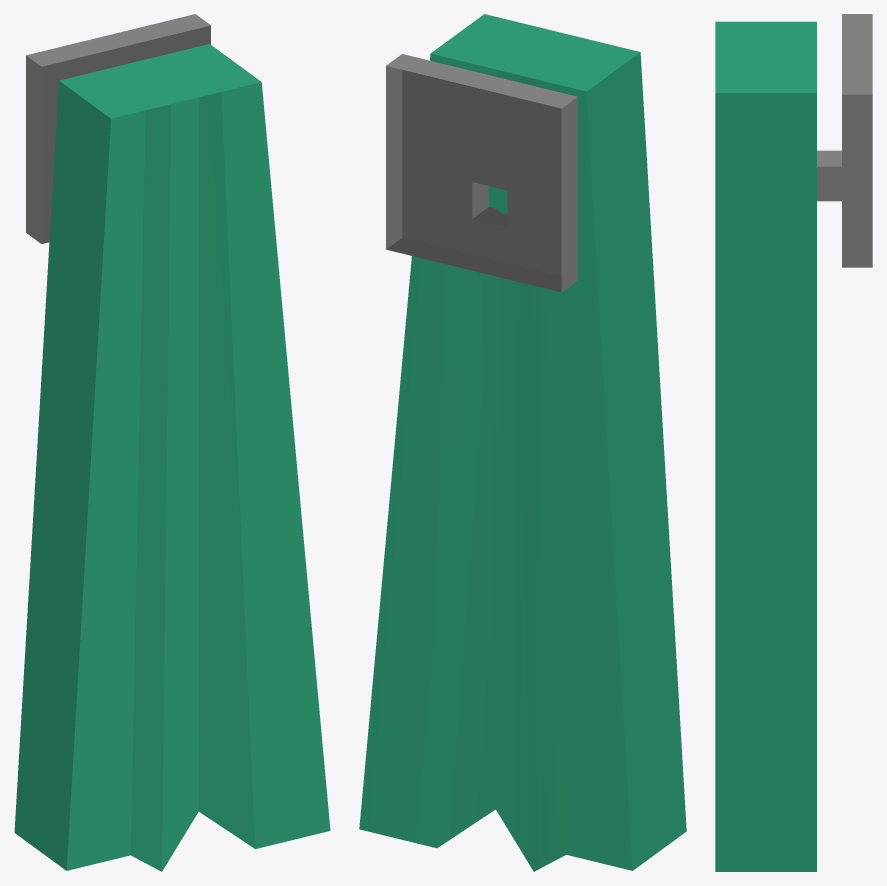
Rendered from ClothesHook2.glb.
3 renders of one model, left to right at view 1: azimuth 30°, elevation 25°; view 2: azimuth 150°, elevation 25°; view 3: azimuth 270°, elevation 25°, orthographic. The views are drawn at different scales.
Visible parts, largest first — view 1: SI_Prop_ClothesHook_02; view 2: SI_Prop_ClothesHook_02; view 3: SI_Prop_ClothesHook_02.
Part boxes in pixels (x1,y1,x2,y2): SI_Prop_ClothesHook_02: [14, 14, 330, 871]; SI_Prop_ClothesHook_02: [359, 14, 686, 871]; SI_Prop_ClothesHook_02: [715, 14, 872, 871].
Size of the model in its own units: 0.00495 by 0.0138 by 0.00262.
1 material, 1 textured.
